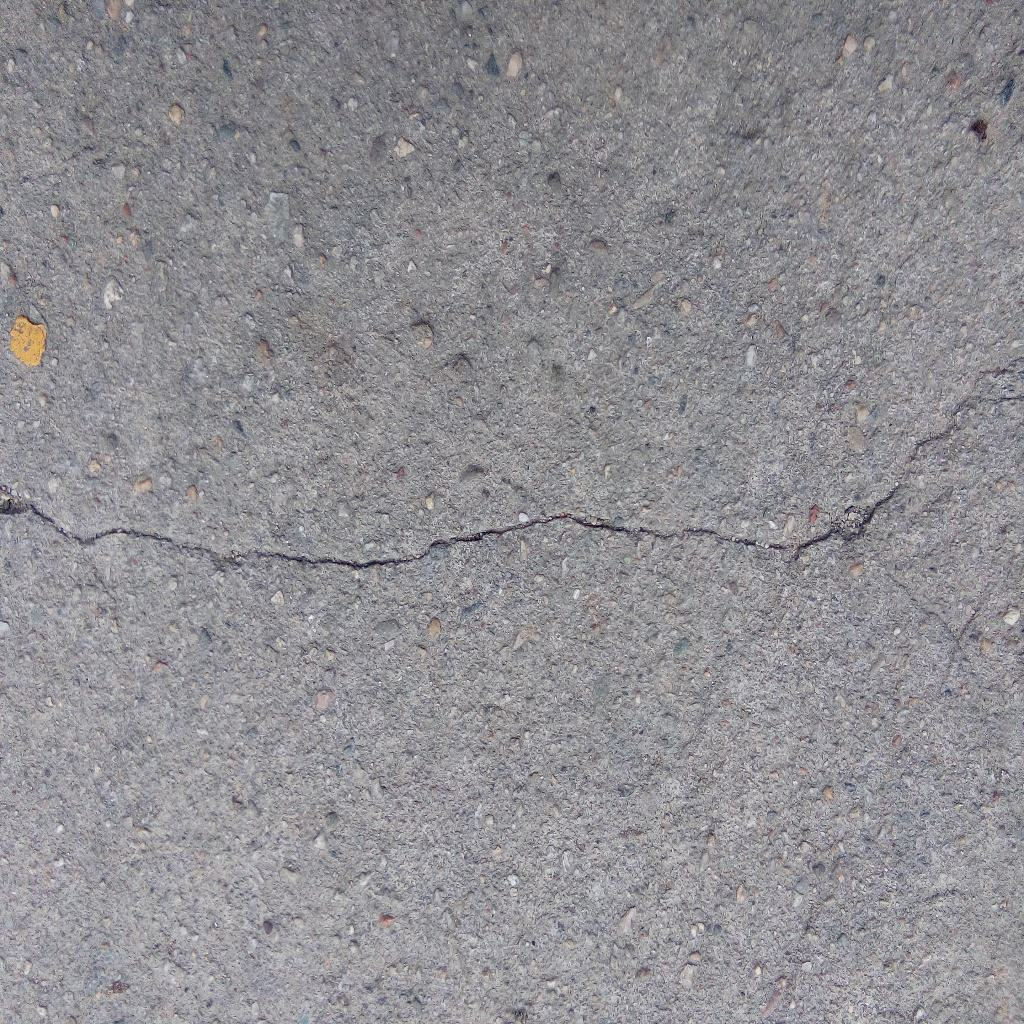Crack: (1, 358, 1024, 570)
